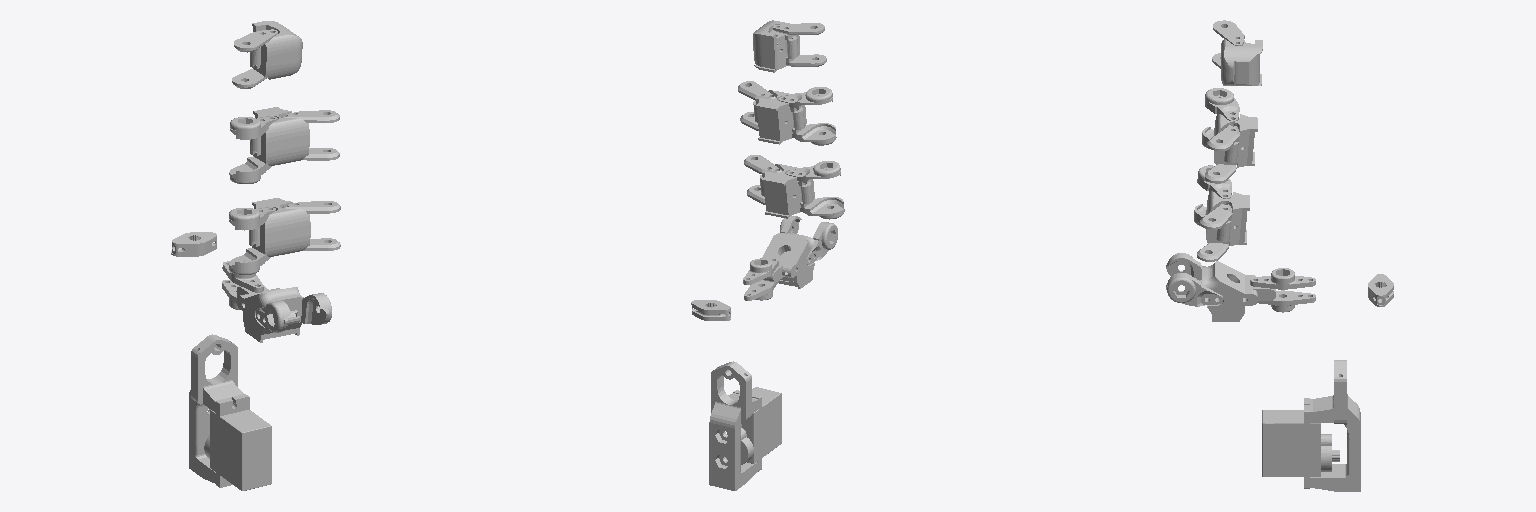
robot.urdf — finger:
<?xml version="1.0" encoding="utf-8"?>
<!-- This URDF was automatically created by SolidWorks to URDF Exporter! Originally created by [author] ([email redacted]) 
     Commit Version: 1.6.0-4-g7f85cfe  Build Version: 1.6.7995.38578
     For more information, please see http://wiki.ros.org/sw_urdf_exporter -->
<robot name="finger">
  <link name="base_link">
    <inertial>
      <origin
        xyz="-0.00168969091187882 0.0278893702990069 0.0386697200522784" rpy="0 0 0" />
      <mass value="0.0119128649201374" />
      <inertia
        ixx="1.77903316958506E-06"
        ixy="2.73784518026717E-10"
        ixz="-7.4497368924376E-14"
        iyy="6.42440261427198E-07"
        iyz="5.2301061822394E-08"
        izz="1.46496018768648E-06" />
    </inertial>
    <visual>
      <origin
        xyz="0 0 0"
        rpy="0 0 0" />
      <geometry>
        <mesh
          filename="package://roborscht_description/meshes/base_link.STL" />
      </geometry>
      <material
        name="">
        <color rgba="0.8 0.8 0.8 1"/>
      </material>
    </visual>
    <collision>
      <origin
        xyz="0 0 0"
        rpy="0 0 0" />
      <geometry>
        <mesh
          filename="package://roborscht_description/meshes/base_link.STL" />
      </geometry>
    </collision>
  </link>
  <link
    name="metacarpal_link">
    <inertial>
      <origin
        xyz="2.55503054425767E-06 -0.0200961384807429 -0.00266508797552342"
        rpy="0 0 0" />
      <mass
        value="0.00537510095982113" />
      <inertia
        ixx="2.53059695492456E-07"
        ixy="1.87666699410734E-10"
        ixz="2.35484866530141E-11"
        iyy="1.08190456615305E-07"
        iyz="-2.20514612979224E-08"
        izz="2.05816365327712E-07" />
    </inertial>
    <visual>
      <origin
        xyz="0 0 0"
        rpy="0 0 0" />
      <geometry>
        <mesh
          filename="package://roborscht_description/meshes/metacarpal_link.STL" />
      </geometry>
      <material
        name="">
        <color rgba="0.8 0.8 0.8 1"/>
      </material>
    </visual>
    <collision>
      <origin
        xyz="0 0 0"
        rpy="0 0 0" />
      <geometry>
        <mesh
          filename="package://roborscht_description/meshes/metacarpal_link.STL" />
      </geometry>
    </collision>
  </link>
  <joint
    name="metacarpal_joint"
    type="revolute">
    <origin
      xyz="-0.0016899 -0.051494 0.059041"
      rpy="-1.5708 -0.049938 3.1416" />
    <parent link="base_link" />
    <child link="metacarpal_link" />
    <axis
      xyz="0 0 1" />
    <limit
      lower="-0.2618"
      upper="0.2618"
      effort="0"
      velocity="0" />
  </joint>
  <link
    name="proximal_link">
    <inertial>
      <origin
        xyz="0.0181492181193309 -0.00455519901217467 -6.55906348605729E-06"
        rpy="0 0 0" />
      <mass
        value="0.00457448104418533" />
      <inertia
        ixx="8.91294749858896E-08"
        ixy="-3.0111460101639E-09"
        ixz="-2.40839829626287E-10"
        iyy="1.28490345109158E-07"
        iyz="-1.11567188486128E-11"
        izz="1.8348738040492E-07" />
    </inertial>
    <visual>
      <origin
        xyz="0 0 0"
        rpy="0 0 0" />
      <geometry>
        <mesh
          filename="package://roborscht_description/meshes/proximal_link.STL" />
      </geometry>
      <material
        name="">
        <color rgba="0.8 0.8 0.8 1" />
      </material>
    </visual>
    <collision>
      <origin
        xyz="0 0 0"
        rpy="0 0 0" />
      <geometry>
        <mesh
          filename="package://roborscht_description/meshes/proximal_link.STL" />
      </geometry>
    </collision>
  </link>
  <joint
    name="proximal_joint"
    type="revolute">
    <origin
      xyz="0 -0.038786 -0.007734"
      rpy="-1.5708 0.085673 -1.5708" />
    <parent
      link="metacarpal_link" />
    <child
      link="proximal_link" />
    <axis
      xyz="0 0 1" />
    <limit
      lower="-1.309"
      upper="0"
      effort="0"
      velocity="0" />
  </joint>
  <link
    name="middle_link">
    <inertial>
      <origin
        xyz="0.0177672178272411 -0.004474805346593 -6.84025959544771E-06"
        rpy="0 0 0" />
      <mass
        value="0.00438641275668905" />
      <inertia
        ixx="8.46514986449752E-08"
        ixy="-3.01219917101257E-09"
        ixz="-2.30777500003745E-10"
        iyy="1.17446243228216E-07"
        iyz="-1.1103682095074E-11"
        izz="1.69859402394516E-07" />
    </inertial>
    <visual>
      <origin
        xyz="0 0 0"
        rpy="0 0 0" />
      <geometry>
        <mesh
          filename="package://roborscht_description/meshes/middle_link.STL" />
      </geometry>
      <material
        name="">
        <color rgba="0.8 0.8 0.8 1"/>
      </material>
    </visual>
    <collision>
      <origin
        xyz="0 0 0"
        rpy="0 0 0" />
      <geometry>
        <mesh
          filename="package://roborscht_description/meshes/middle_link.STL" />
      </geometry>
    </collision>
  </link>
  <joint
    name="middle_joint"
    type="revolute">
    <origin
      xyz="0.033972 0 0"
      rpy="0 0 -0.011388" />
    <parent
      link="proximal_link" />
    <child
      link="middle_link" />
    <axis
      xyz="0 0 1" />
    <limit
      lower="-1.309"
      upper="0"
      effort="0"
      velocity="0" />
    <mimic joint="proximal_joint" multiplier="1" offset="0" />
  </joint>
  <link
    name="distal_link">
    <inertial>
      <origin
        xyz="-0.0141234378639758 -0.00526492449893716 -0.000119344366734854"
        rpy="0 0 0" />
      <mass
        value="0.00324558485631147" />
      <inertia
        ixx="6.62419109034208E-08"
        ixy="-7.47834711523089E-09"
        ixz="3.87195824060538E-10"
        iyy="7.00049063251166E-08"
        iyz="-7.73951192286721E-10"
        izz="1.10271023940816E-07" />
    </inertial>
    <visual>
      <origin
        xyz="0 0 0"
        rpy="0 0 0" />
      <geometry>
        <mesh
          filename="package://roborscht_description/meshes/distal_link.STL" />
      </geometry>
      <material
        name="">
        <color rgba="0.8 0.8 0.8 1"/>
      </material>
    </visual>
    <collision>
      <origin
        xyz="0 0 0"
        rpy="0 0 0" />
      <geometry>
        <mesh
          filename="package://roborscht_description/meshes/distal_link.STL" />
      </geometry>
    </collision>
  </link>
  <joint
    name="distal_joint"
    type="revolute">
    <origin
      xyz="0.033172 0 0"
      rpy="-3.1416 0 3.0784" />
    <parent
      link="middle_link" />
    <child
      link="distal_link" />
    <axis
      xyz="0 0 -1" />
    <limit
      lower="-1.309"
      upper="0"
      effort="0"
      velocity="0" />
    <mimic joint="middle_joint" multiplier="1" offset="0" />
  </joint>
</robot>

--- Facts derived from the render (not from the file) ---
Views: 3 orthographic renders of the robot side by side, from view 1: azimuth 30°, elevation 25°; view 2: azimuth 150°, elevation 25°; view 3: azimuth 270°, elevation 25°.
Model finger with 5 links and 4 joints (4 revolute), rooted at base_link, posed all joints at 0.
Visible links, largest first — view 1: base_link, metacarpal_link, proximal_link, middle_link, distal_link; view 2: base_link, metacarpal_link, proximal_link, middle_link, distal_link; view 3: base_link, metacarpal_link, middle_link, proximal_link, distal_link.
Boxes of the visible links, x1,y1,x2,y2 form: base_link: (189,334,271,490); metacarpal_link: (171,232,331,342); proximal_link: (229,198,340,274); middle_link: (229,107,339,183); distal_link: (232,21,302,88); base_link: (709,361,781,490); metacarpal_link: (691,215,837,320); proximal_link: (744,155,844,219); middle_link: (738,81,836,145); distal_link: (753,20,826,72); base_link: (1262,360,1360,491); metacarpal_link: (1166,253,1393,321); middle_link: (1202,88,1257,183); proximal_link: (1194,165,1249,261); distal_link: (1212,20,1262,85).
Size in the robot's own frame: 0.0464 by 0.0871 by 0.1878 metres.
5 mesh visuals loaded from 5 distinct referenced files (5 binary STL).
